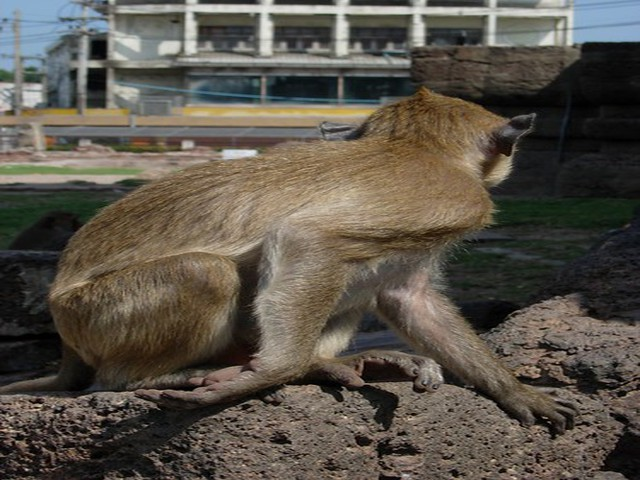Monkey: (4, 81, 588, 430)
